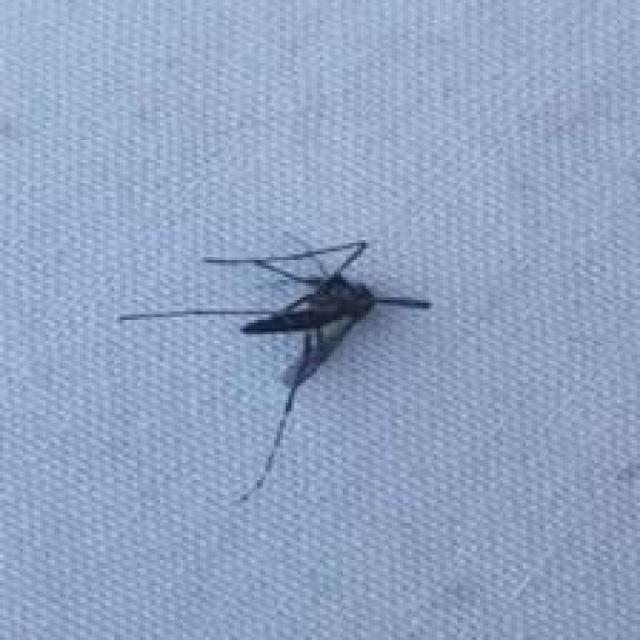Aedes albopictus: (116, 231, 433, 506)
